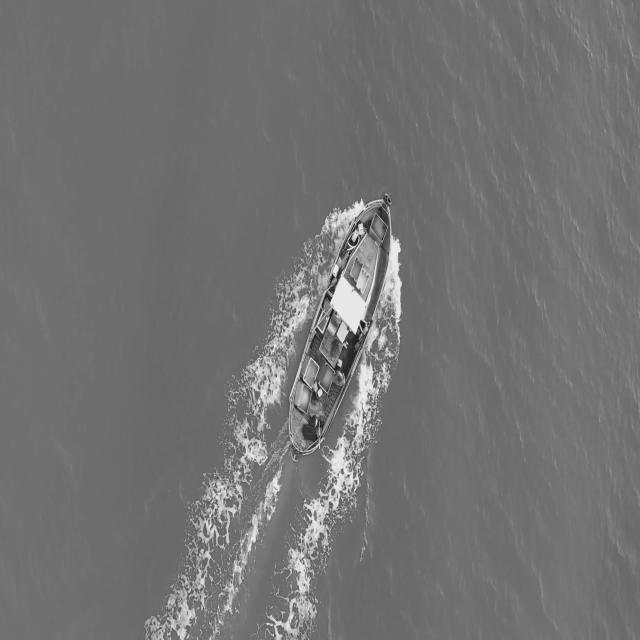ship: (282, 196, 394, 464)
